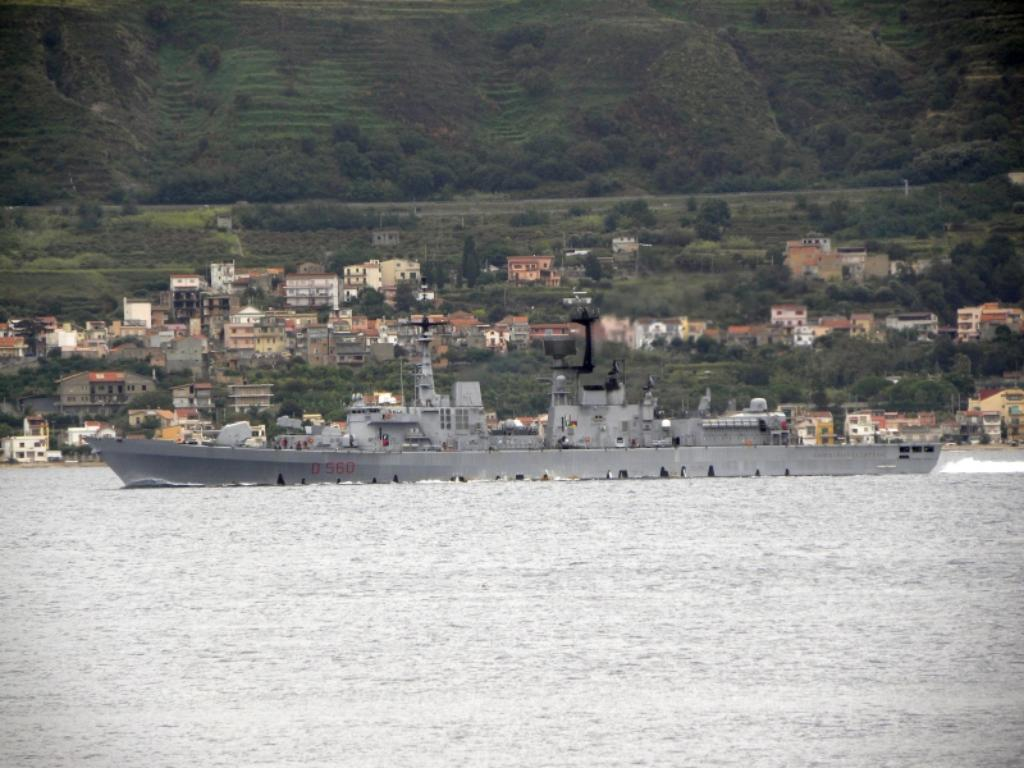Warship: (78, 273, 946, 491)
